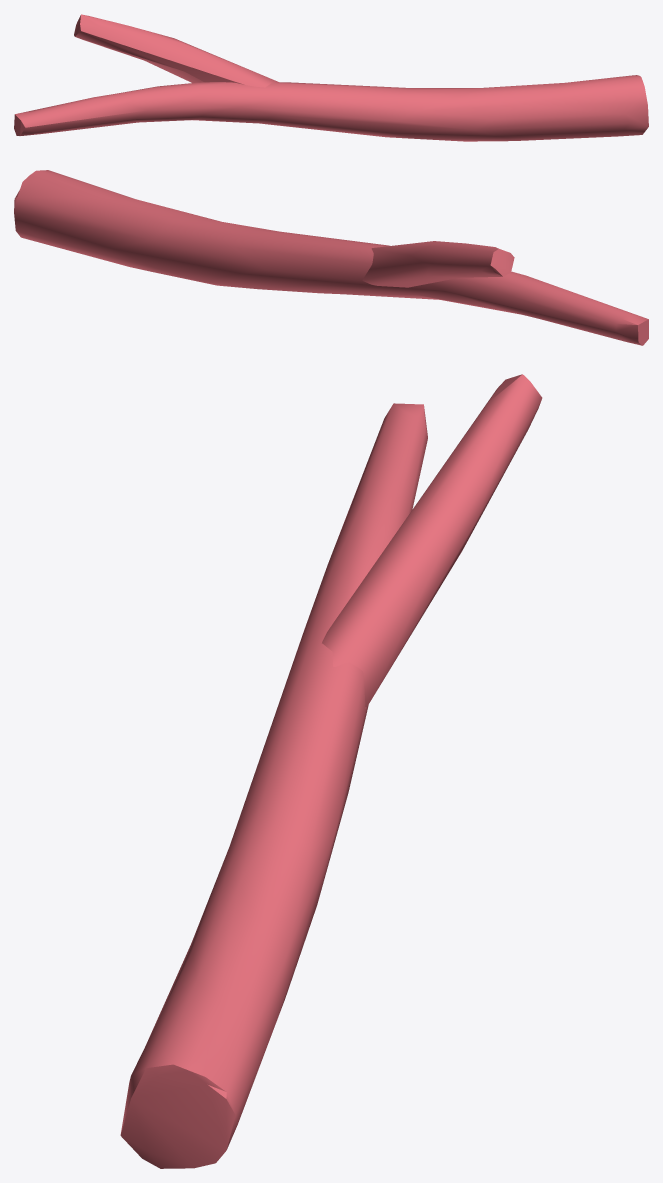
File: fma68690_cx180.glb
3 renders of one model, top to bottom at view 1: azimuth 30°, elevation 25°; view 2: azimuth 150°, elevation 25°; view 3: azimuth 270°, elevation 25°, orthographic. The views are drawn at different scales.
Parts seen in each view (by area): view 1: FMA68690_CX180; view 2: FMA68690_CX180; view 3: FMA68690_CX180.
Part boxes in pixels (box(x1,y1,x2,y2)): FMA68690_CX180: box(14, 14, 648, 141); FMA68690_CX180: box(14, 170, 648, 345); FMA68690_CX180: box(120, 374, 542, 1168).
Size of the model in its own units: 0.0536 by 0.0152 by 0.0172.
